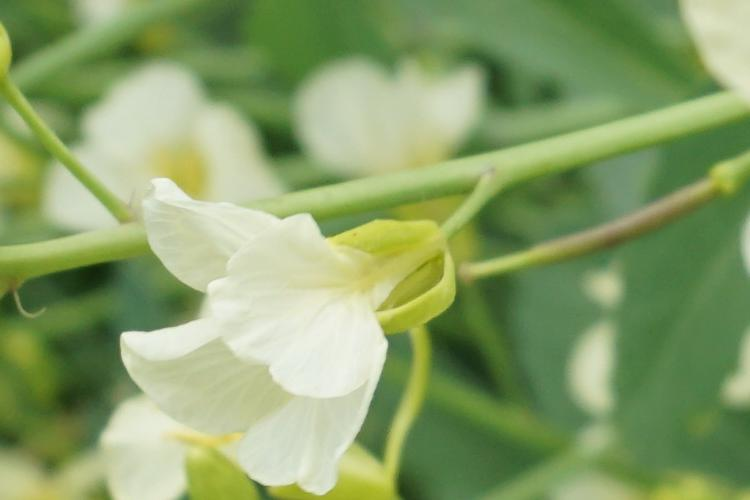white: (129, 188, 463, 487), (57, 64, 300, 259)
